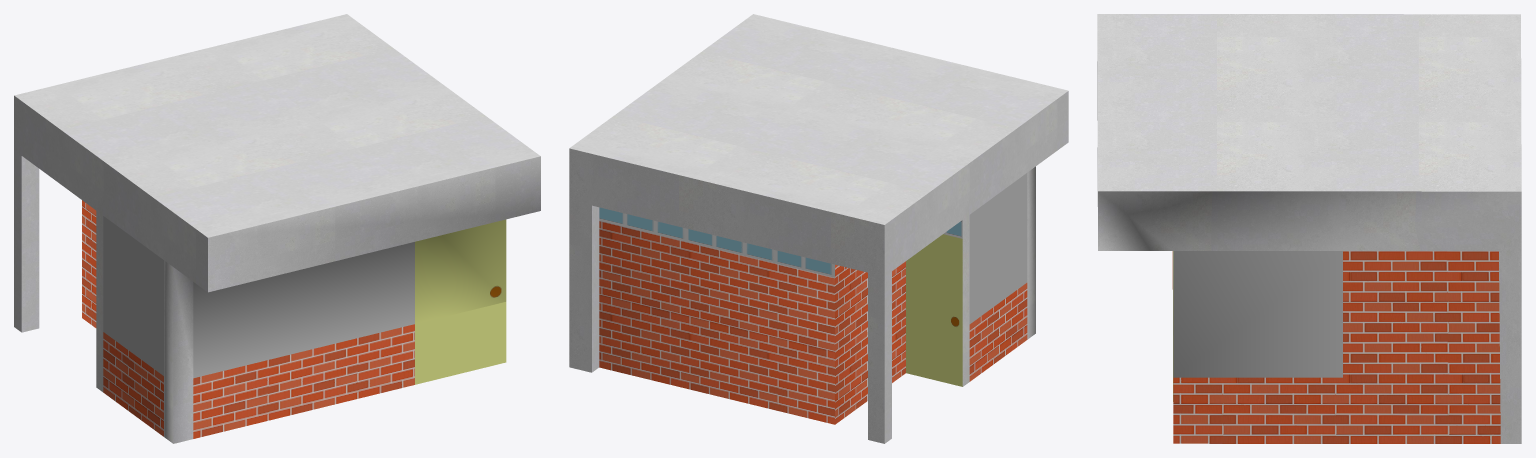
Rendered from caseta_vigilancia.fbx.
3 renders of one model, left to right at view 1: azimuth 30°, elevation 25°; view 2: azimuth 150°, elevation 25°; view 3: azimuth 270°, elevation 25°, orthographic. The views are drawn at different scales.
Visible parts, largest first — view 1: garita_control_final; view 2: garita_control_final; view 3: garita_control_final.
Part boxes in pixels (<box>): garita_control_final: <box>14,14,540,443</box>; garita_control_final: <box>569,14,1068,443</box>; garita_control_final: <box>1097,14,1521,443</box>.
Size of the model in its own units: 562 by 373 by 568.
